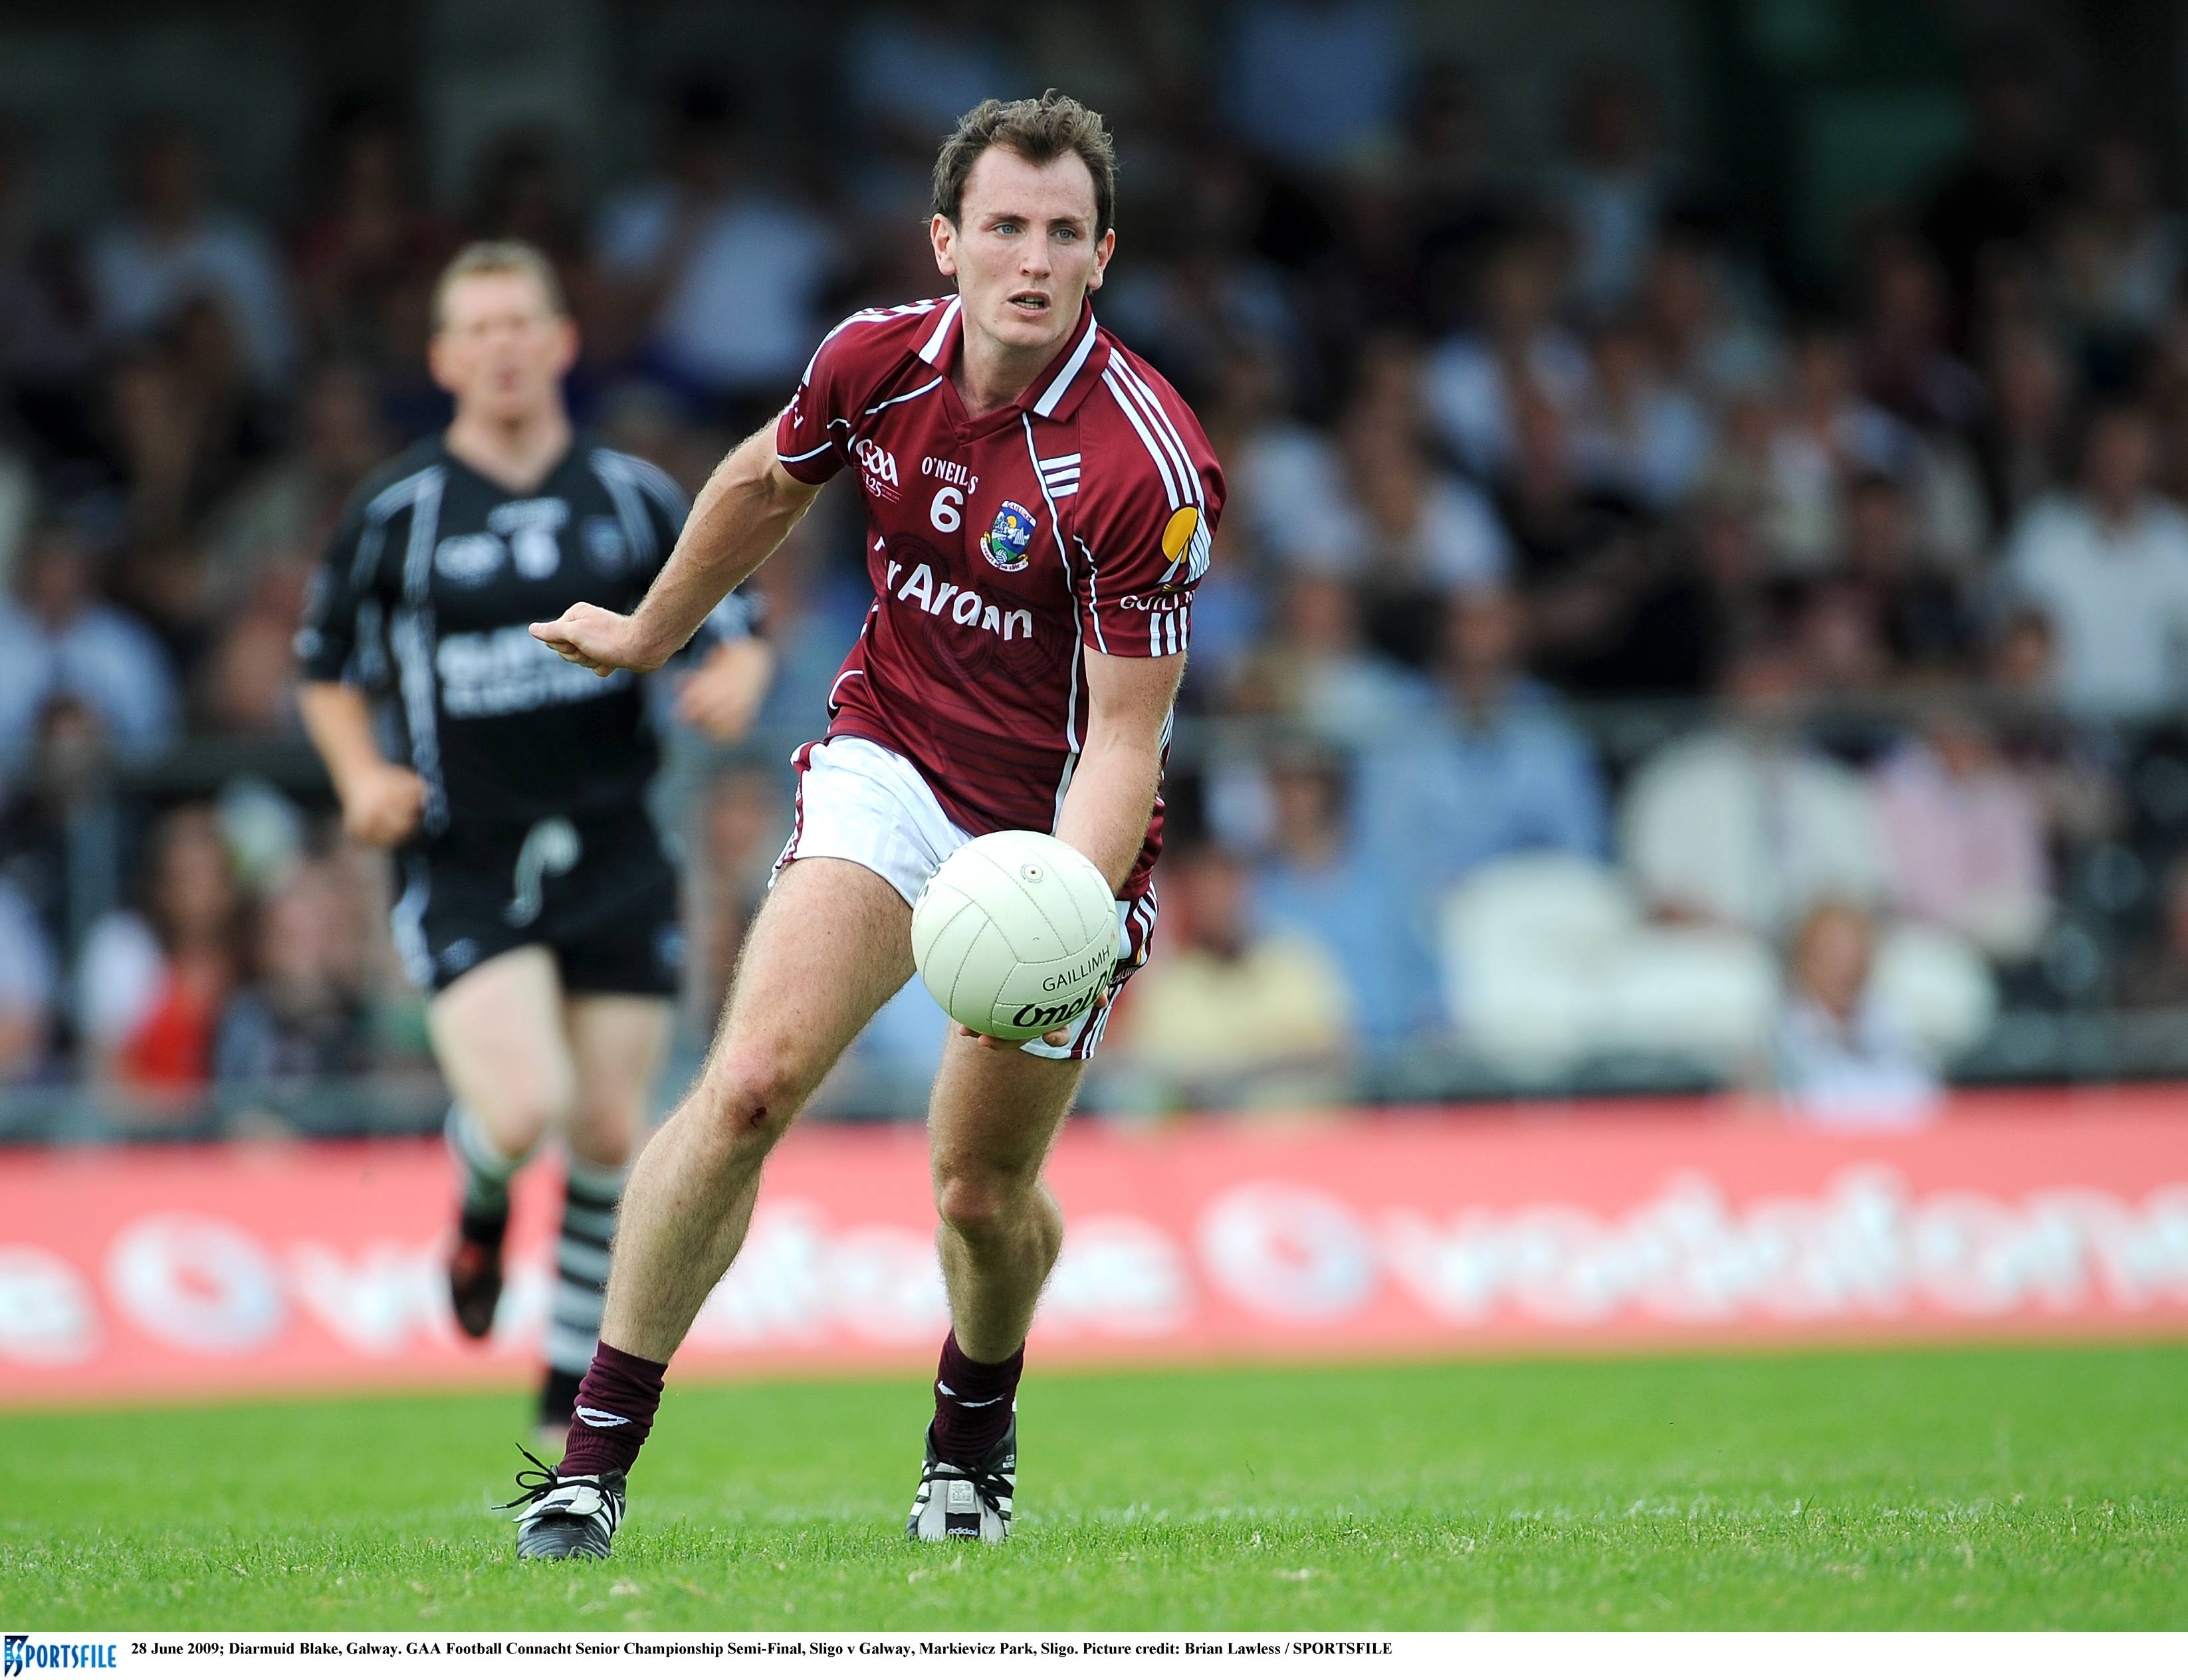ball: (923, 804, 1115, 1037)
player: (728, 99, 1260, 1419), (374, 219, 710, 1342)
